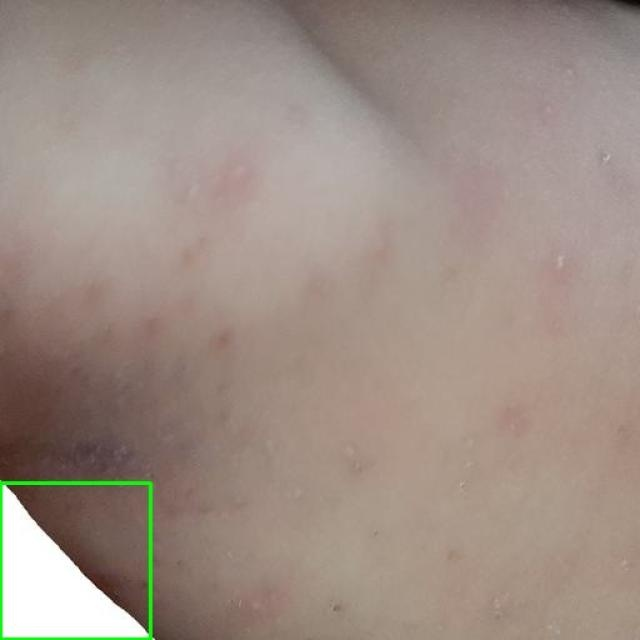Contact Dermatitis: (0, 482, 150, 639)
